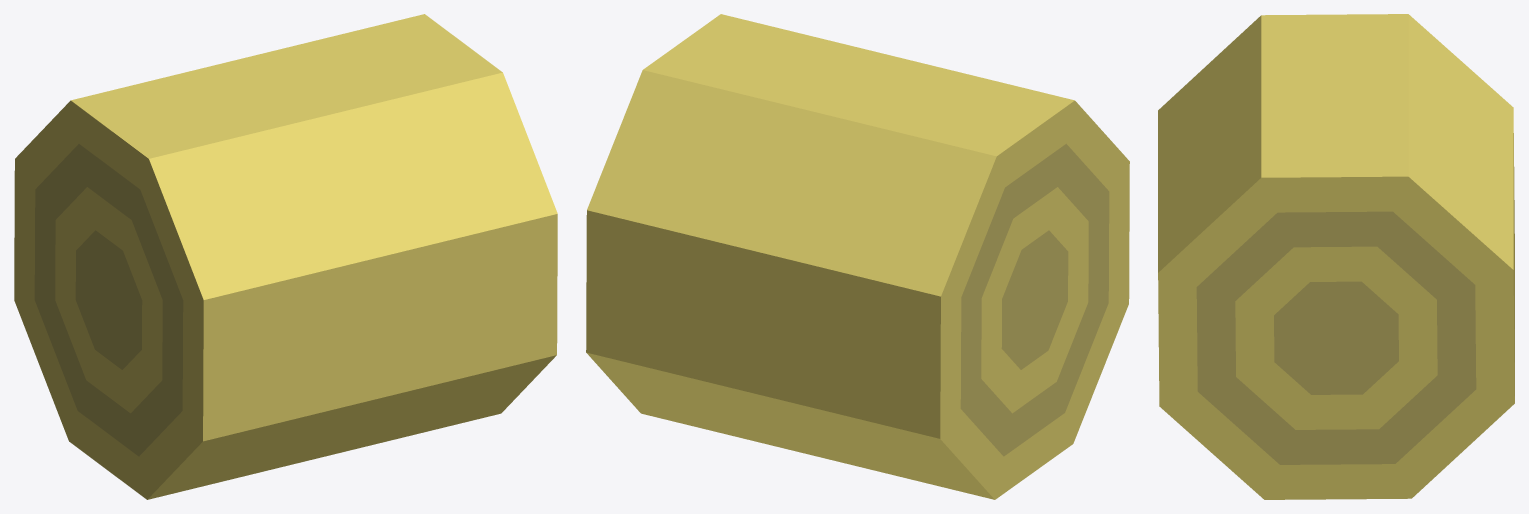
Rendered from samanbalya.fbx.
The picture shows the model from 3 angles, left to right: view 1: azimuth 30°, elevation 25°; view 2: azimuth 150°, elevation 25°; view 3: azimuth 270°, elevation 25°; orthographic projection. The views are drawn at different scales.
Parts seen in each view (by area): view 1: SamanBalya; view 2: SamanBalya; view 3: SamanBalya.
Part boxes in pixels (x1,y1,x2,y2): SamanBalya: (14,14,557,499); SamanBalya: (586,14,1129,499); SamanBalya: (1158,14,1514,499).
Bounding box in the file's own units: 2 × 1.85 × 1.85.
